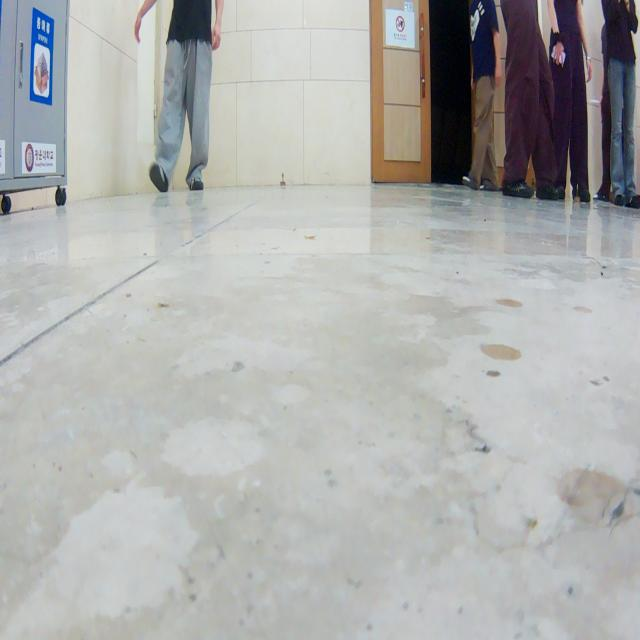target: (280, 172, 286, 188)
